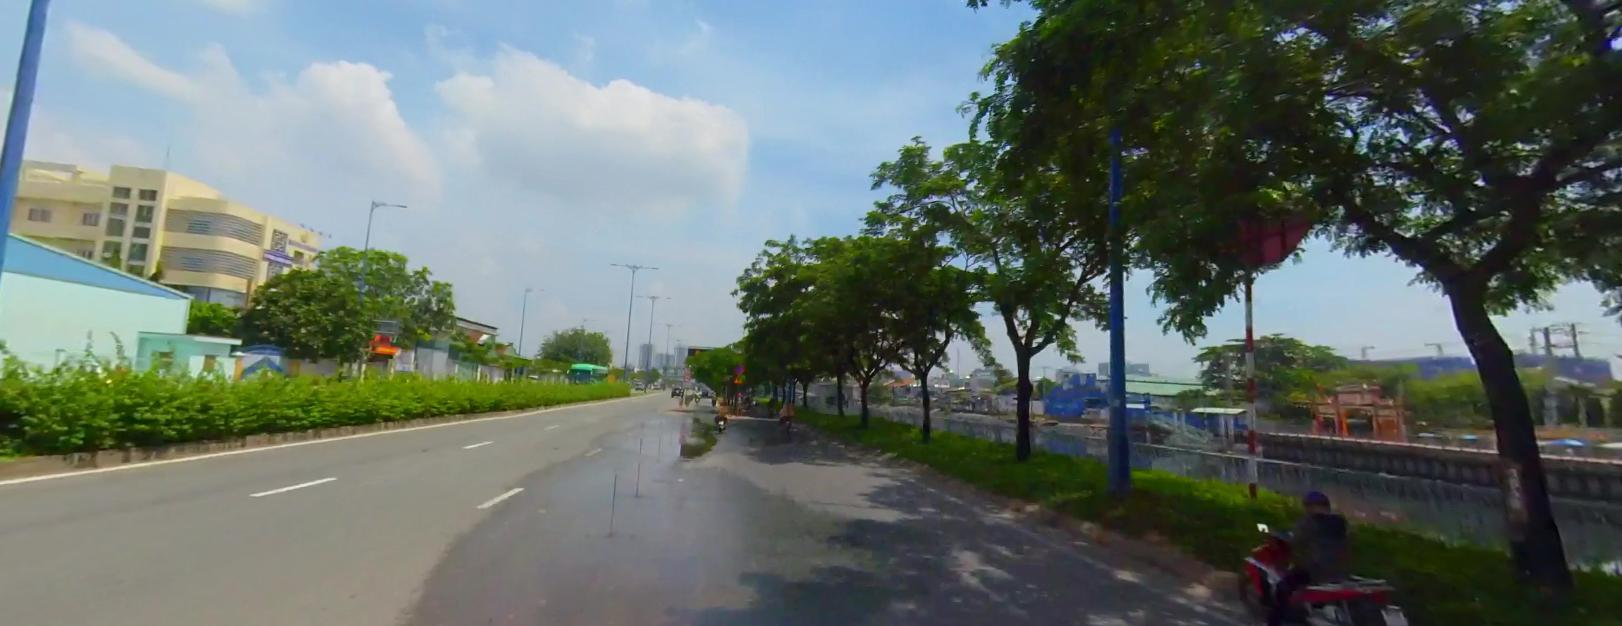Cam con lai: (683, 372, 691, 380), (683, 365, 690, 372)
Cam dung va do: (732, 361, 745, 373)
Nguy hiem: (732, 374, 743, 382)
